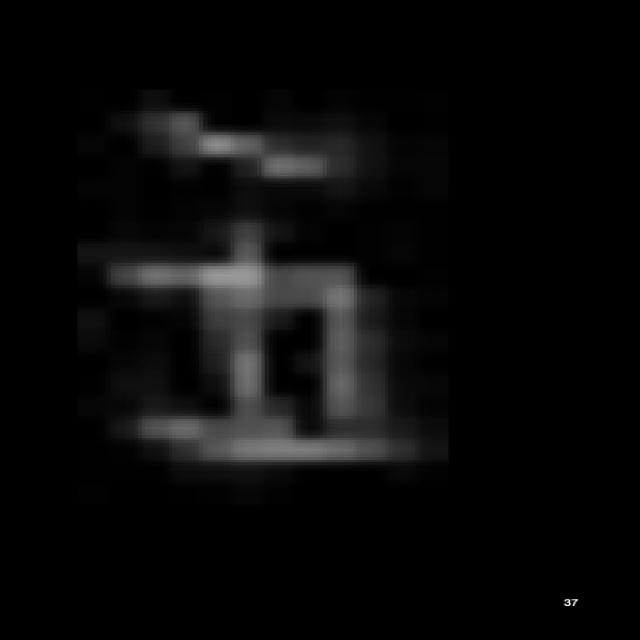5 -five-: (121, 107, 411, 480)
